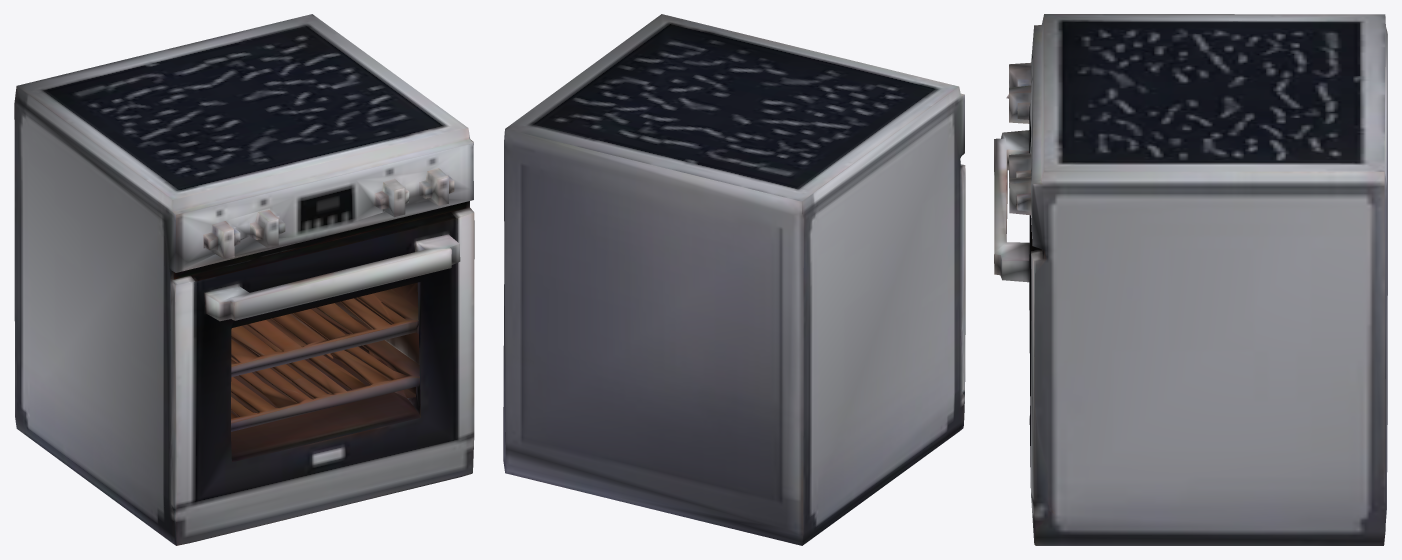
The model's file is furnace-kitchen.glb.
3 views of the same model, side by side, from view 1: azimuth 30°, elevation 25°; view 2: azimuth 150°, elevation 25°; view 3: azimuth 270°, elevation 25° (orthographic). The views are drawn at different scales.
Visible parts, largest first — view 1: material; view 2: material; view 3: material.
Boxes of the visible parts, <box> form: material: <box>14,14,474,545</box>; material: <box>503,14,965,545</box>; material: <box>994,14,1387,545</box>.
Bounding box in the file's own units: 0.6696 × 0.7341 × 0.6965.
1 material, 1 textured.
